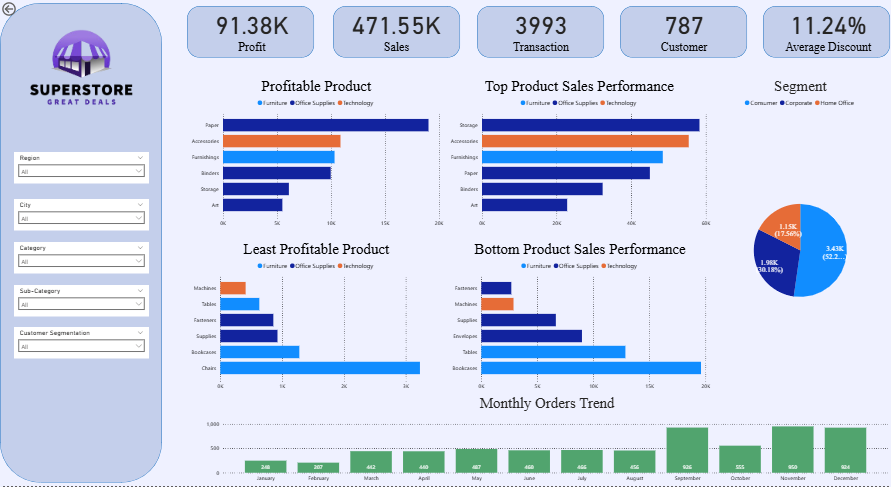

This screenshot's page, from the dashboard's own definition file:
{"tool":"powerbi","page":{"name":"Profit and Sales Product","canvas":[1980,1080],"ordinal":1},"visuals":[{"type":"barChart","title":"Profitable Product","fields":{"Category":["df_superstore.Sub-Category"],"Series":["df_superstore.Category"],"Y":["Sum(df_superstore.Profit)"]},"box":[415,170,575,342.5],"z":0},{"type":"shape","box":[0,6,360,1066],"z":1000},{"type":"slicer","fields":{"Values":["df_superstore.City"]},"box":[30,442.9,300,70],"z":2000},{"type":"slicer","fields":{"Values":["df_superstore.Category"]},"box":[30,538.6,300,70],"z":3000},{"type":"slicer","fields":{"Values":["df_superstore.Sub-Category"]},"box":[30,634,300,70],"z":4000},{"type":"slicer","fields":{"Values":["df_superstore.Region"]},"box":[30,338,300,70],"z":5000},{"type":"image","box":[0,0,360,302],"z":6000},{"type":"slicer","fields":{"Values":["rfm_table.segment"]},"box":[30,727.1,300,70],"z":7000},{"type":"pieChart","title":"Segment ","fields":{"Category":["df_superstore.Segment"],"Y":["CountNonNull(df_superstore.Order ID)"]},"box":[1582.5,170,392.5,705],"z":8000},{"type":"shape","box":[1695,12.5,282.5,115],"z":9000},{"type":"shape","box":[1377.5,12.5,282.5,115],"z":10000},{"type":"shape","box":[1060,12.5,282.5,115],"z":11000},{"type":"shape","box":[740,12.5,282.5,115],"z":12000},{"type":"shape","box":[415,12.5,282.5,115],"z":13000},{"type":"card","fields":{"Values":["Sum(df_superstore.Profit)"]},"box":[380,0,360,130],"z":14000},{"type":"card","fields":{"Values":["Sum(df_superstore.Sales)"]},"box":[702.5,0,357.5,130],"z":15000},{"type":"card","fields":{"Values":["Count(df_superstore.Order ID)"]},"box":[1022.5,0,360,130],"z":16000},{"type":"card","fields":{"Values":["Count(df_superstore.Customer ID)"]},"box":[1340,0,360,130],"z":17000},{"type":"card","fields":{"Values":["Avg(df_superstore.Discount)"]},"box":[1705,0,272.5,130],"z":18000},{"type":"barChart","title":"Top Product Sales Performance","fields":{"Category":["df_superstore.Sub-Category"],"Series":["df_superstore.Category"],"Y":["Sum(df_superstore.Sales)"]},"box":[990,170,592.5,342.5],"z":19000},{"type":"actionButton","box":[0,0,100,40],"z":20000},{"type":"barChart","title":"Least Profitable Product","fields":{"Category":["df_superstore.Sub-Category"],"Series":["df_superstore.Category"],"Y":["Sum(df_superstore.Profit)"]},"box":[415,532.5,575,342.5],"z":21000},{"type":"barChart","title":"Bottom Product Sales Performance","fields":{"Category":["df_superstore.Sub-Category"],"Series":["df_superstore.Category"],"Y":["Sum(df_superstore.Sales)"]},"box":[995,532.5,587.5,342.5],"z":22000},{"type":"clusteredColumnChart","title":"Monthly Orders Trend","fields":{"Category":["df_superstore.Order Date.Variation.Date Hierarchy.Month"],"Y":["CountNonNull(df_superstore.Order ID)"]},"box":[452.5,875,1525,205],"z":23000}]}

Visuals, with their boxes in screenshot pixels (x1, y1, x2, y2), scaled from the page's 1980x1080 canvas onto the 891x487 screenshot:
"Profitable Product" barChart: <box>187,77,446,231</box>
shape: <box>0,3,162,483</box>
slicer - df_superstore.City: <box>14,200,148,231</box>
slicer - df_superstore.Category: <box>14,243,148,274</box>
slicer - df_superstore.Sub-Category: <box>14,286,148,317</box>
slicer - df_superstore.Region: <box>14,152,148,184</box>
image: <box>0,0,162,136</box>
slicer - rfm_table.segment: <box>14,328,148,359</box>
"Segment " pieChart: <box>712,77,889,395</box>
shape: <box>763,6,890,57</box>
shape: <box>620,6,747,57</box>
shape: <box>477,6,604,57</box>
shape: <box>333,6,460,57</box>
shape: <box>187,6,314,57</box>
card - Sum(df_superstore.Profit): <box>171,0,333,59</box>
card - Sum(df_superstore.Sales): <box>316,0,477,59</box>
card - Count(df_superstore.Order ID): <box>460,0,622,59</box>
card - Count(df_superstore.Customer ID): <box>603,0,765,59</box>
card - Avg(df_superstore.Discount): <box>767,0,890,59</box>
"Top Product Sales Performance" barChart: <box>446,77,712,231</box>
actionButton: <box>0,0,45,18</box>
"Least Profitable Product" barChart: <box>187,240,446,395</box>
"Bottom Product Sales Performance" barChart: <box>448,240,712,395</box>
"Monthly Orders Trend" clusteredColumnChart: <box>204,395,890,486</box>
